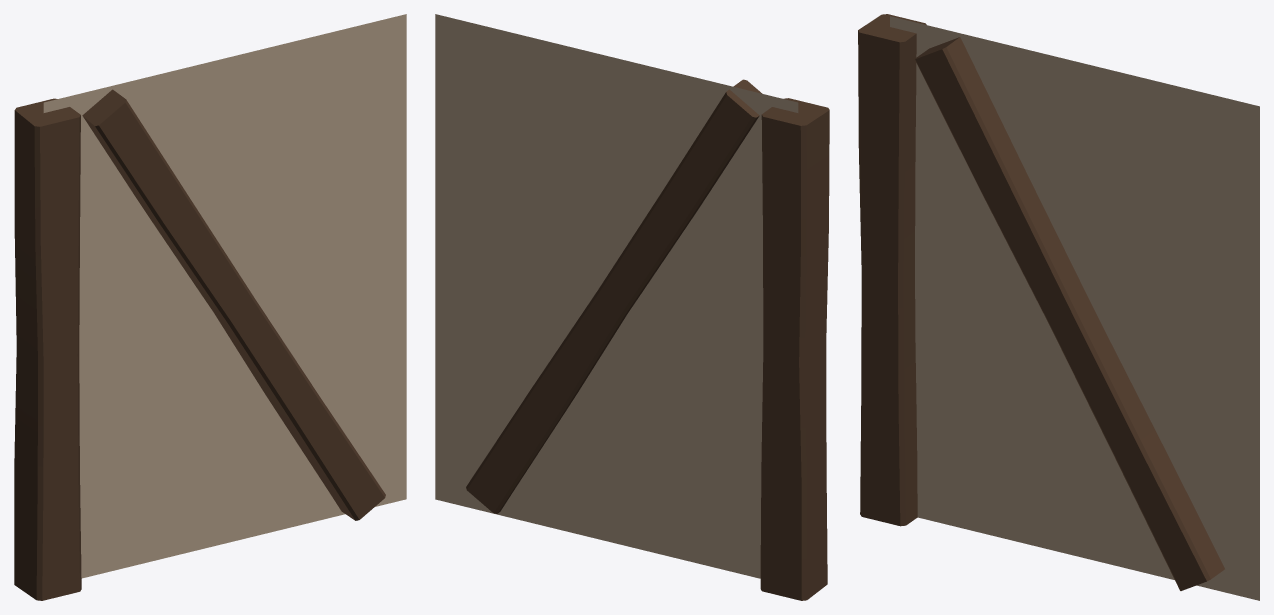
The model's file is WallPlain1.fbx.
3 renders of one model, left to right at view 1: azimuth 30°, elevation 25°; view 2: azimuth 150°, elevation 25°; view 3: azimuth 330°, elevation 25°, orthographic.
Parts seen in each view (by area): view 1: Cube.096; view 2: Cube.096; view 3: Cube.096.
Part boxes in pixels (x1,y1,x2,y2): Cube.096: (14,14,406,600); Cube.096: (435,14,829,600); Cube.096: (858,14,1259,600).
Size of the model in its own units: 2.11 by 2.56 by 0.2634.
